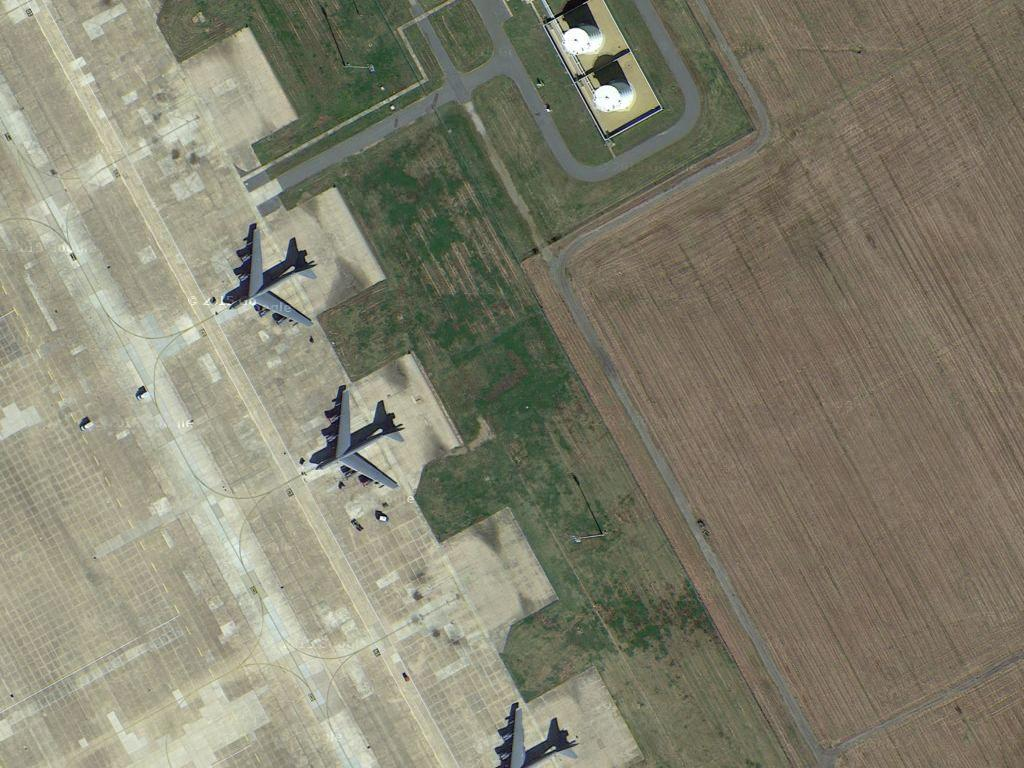B-52: (225, 223, 325, 333), (314, 383, 412, 492)
